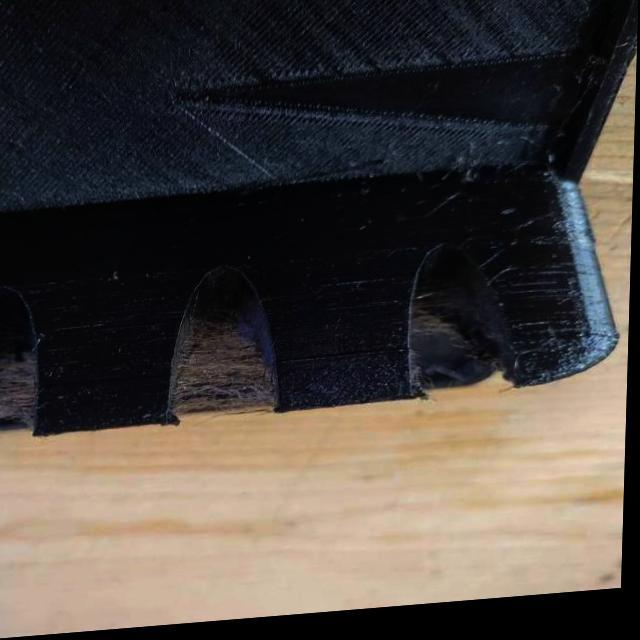stringing: (176, 354, 276, 416), (0, 379, 38, 428)
